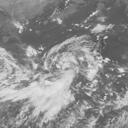cyclone: (18, 34, 105, 115)
